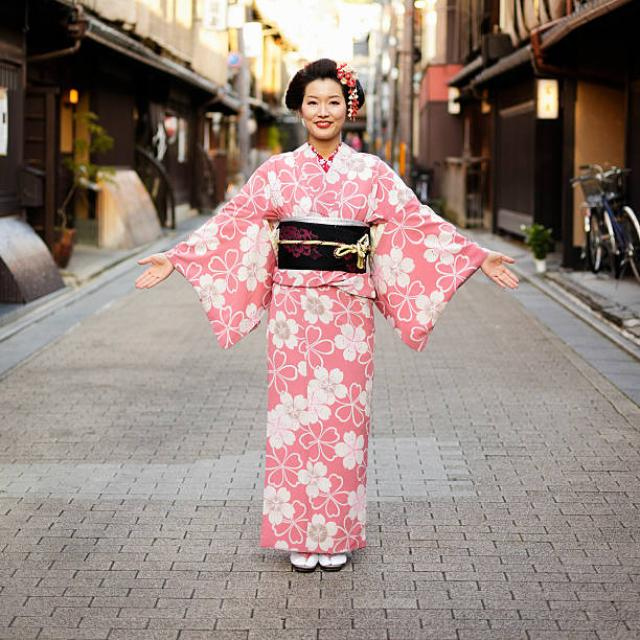Real human 2: (130, 57, 517, 609)
